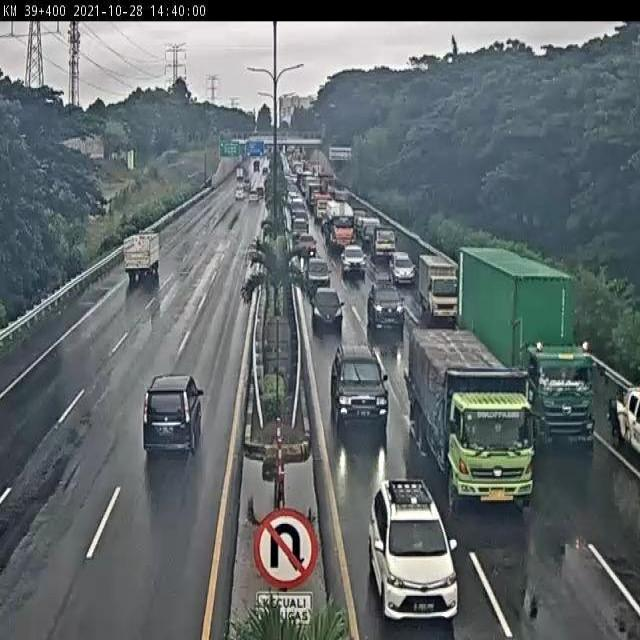big truck: (452, 243, 577, 427), (413, 336, 531, 499)
car: (367, 480, 459, 623), (141, 372, 203, 459), (330, 341, 389, 424), (367, 281, 403, 328), (311, 288, 343, 331), (369, 225, 399, 260), (387, 248, 416, 281), (339, 243, 365, 273), (304, 253, 330, 283), (295, 231, 317, 257)
mid truck: (123, 236, 161, 283)
small truck: (419, 255, 462, 320)
